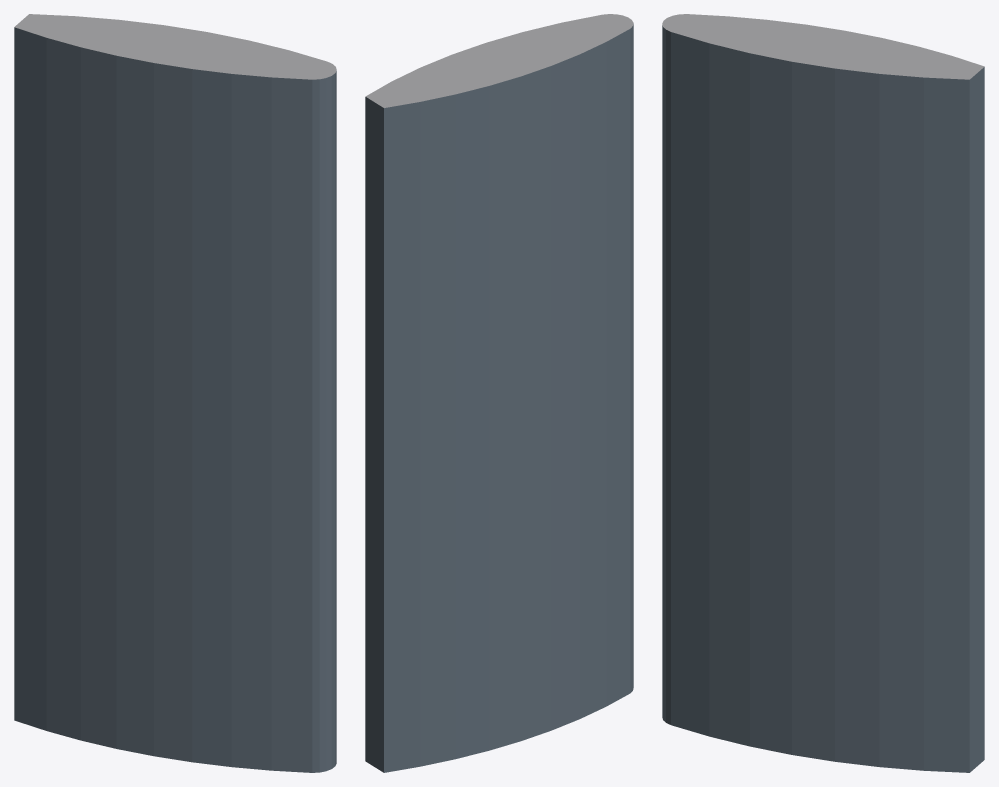
Rendered from building_0_0.glb.
3 views of the same model, side by side, from view 1: azimuth 90°, elevation 25°; view 2: azimuth 150°, elevation 25°; view 3: azimuth 270°, elevation 25° (orthographic). The views are drawn at different scales.
Parts seen in each view (by area): view 1: glass_dark, roof; view 2: glass_dark, roof; view 3: glass_dark, roof.
Part boxes in pixels (<box>): glass_dark: <box>14,27,336,772</box>; roof: <box>14,14,336,79</box>; glass_dark: <box>365,24,633,772</box>; roof: <box>365,14,633,107</box>; glass_dark: <box>662,25,984,772</box>; roof: <box>662,14,984,79</box>.
Size of the model in its own units: 39.04 by 192 by 80.98.
